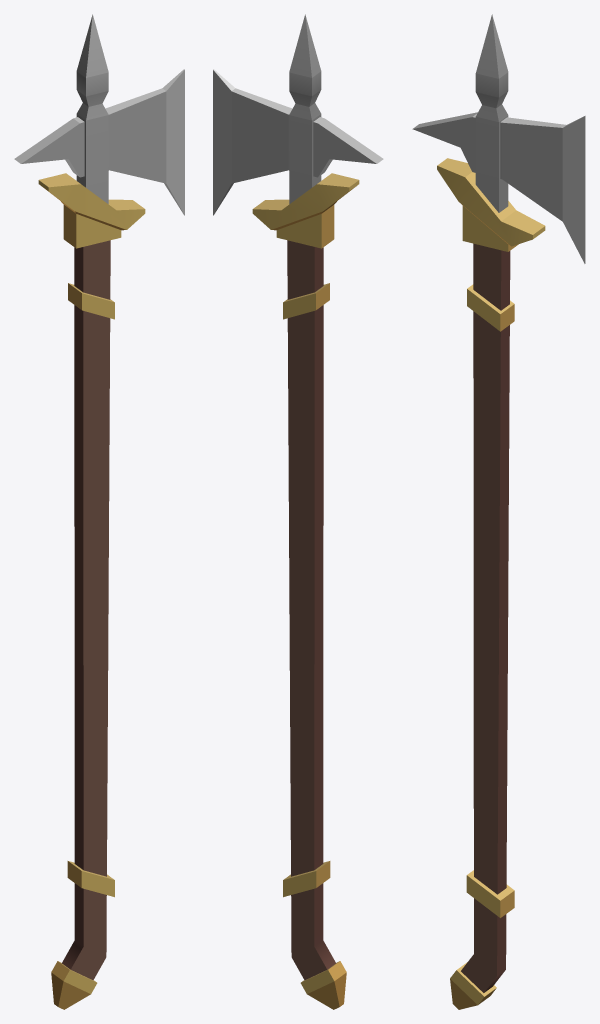
File: SF_Wep_Elven_Halberd_01.fbx
3 views of the same model, side by side, from view 1: azimuth 30°, elevation 25°; view 2: azimuth 150°, elevation 25°; view 3: azimuth 330°, elevation 25° (orthographic).
Parts seen in each view (by area): view 1: SF_Wep_Elven_Halberd_01; view 2: SF_Wep_Elven_Halberd_01; view 3: SF_Wep_Elven_Halberd_01.
Boxes of the visible parts, x1=… form: SF_Wep_Elven_Halberd_01: x1=14, y1=14, x2=184, y2=1009; SF_Wep_Elven_Halberd_01: x1=213, y1=14, x2=383, y2=1009; SF_Wep_Elven_Halberd_01: x1=412, y1=14, x2=585, y2=1009.
Size of the model in its own units: 0.8674 by 4.9 by 0.1354.
